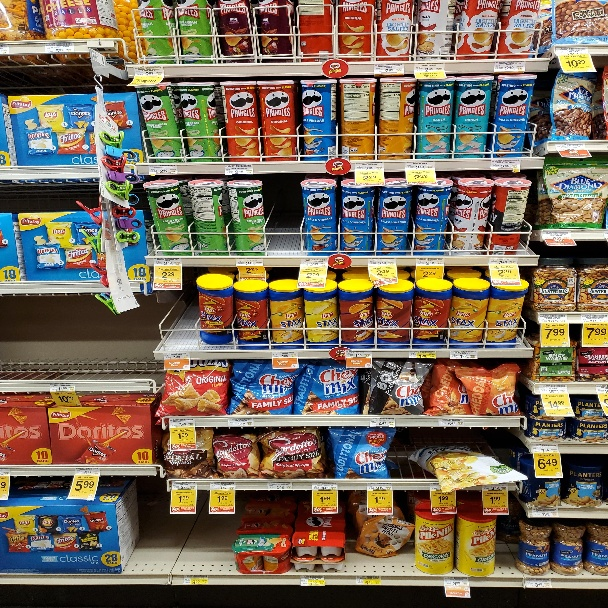All PRICE TAGS: (531, 507, 559, 518), (538, 314, 568, 324), (374, 63, 404, 73), (494, 61, 524, 71), (525, 577, 552, 588), (491, 159, 520, 169), (354, 161, 383, 171), (135, 66, 163, 76), (406, 161, 434, 171), (541, 231, 572, 240), (414, 63, 445, 72), (43, 43, 73, 52), (531, 444, 560, 453), (539, 385, 568, 394), (556, 47, 588, 55), (149, 164, 177, 173), (555, 143, 586, 151), (301, 257, 328, 266), (225, 164, 252, 173), (49, 383, 75, 392), (444, 577, 469, 586), (367, 481, 392, 490), (489, 258, 517, 266), (416, 258, 444, 266), (154, 258, 182, 266), (356, 576, 380, 585), (301, 576, 325, 585), (184, 575, 208, 584), (450, 350, 477, 358), (236, 258, 263, 266), (438, 418, 464, 426), (369, 418, 395, 426), (369, 258, 395, 266), (581, 315, 607, 323), (171, 481, 196, 489), (228, 418, 253, 426), (75, 467, 100, 475), (483, 482, 507, 490), (409, 351, 436, 358), (312, 482, 337, 489), (211, 482, 236, 489), (164, 352, 189, 359), (268, 482, 292, 489), (170, 419, 194, 426), (272, 352, 298, 358), (346, 351, 371, 357)
